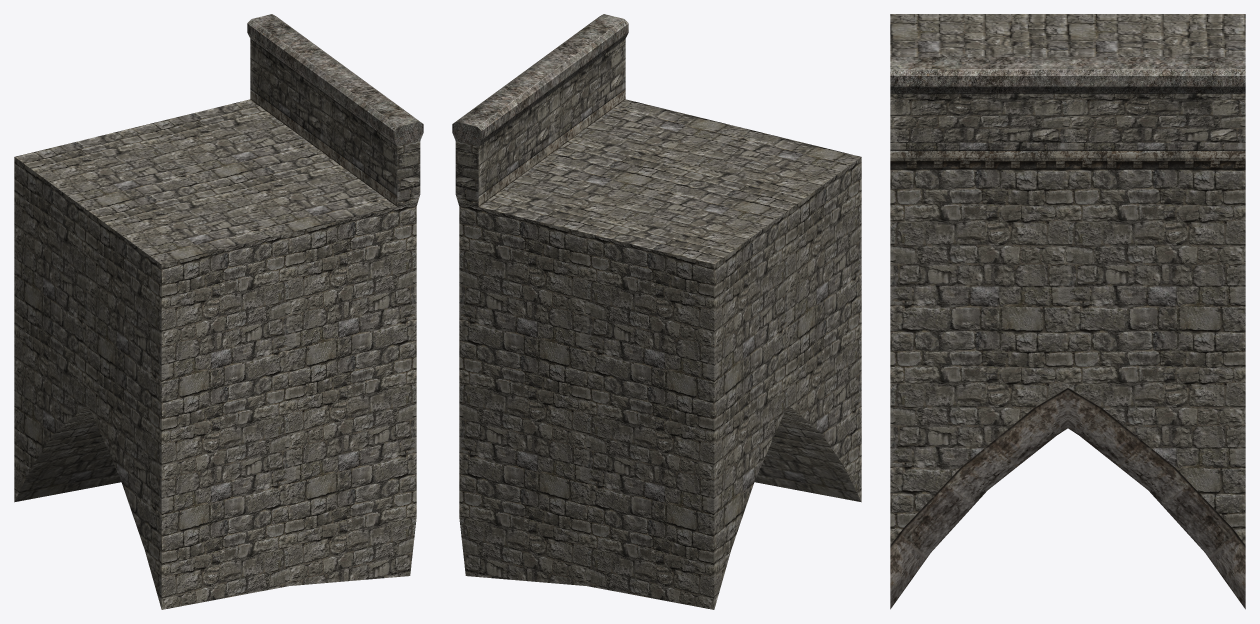
File: StoneBridge_AbutmentSide.dae
The picture shows the model from 3 angles, left to right: view 1: azimuth 30°, elevation 25°; view 2: azimuth 150°, elevation 25°; view 3: azimuth 270°, elevation 25°; orthographic projection. The views are drawn at different scales.
Parts seen in each view (by area): view 1: StoneBridgeAbutmentSide, StoneBridgeAbutmentSideW; view 2: StoneBridgeAbutmentSide, StoneBridgeAbutmentSideW; view 3: StoneBridgeAbutmentSide, StoneBridgeAbutmentSideW.
Boxes of the visible parts, x1,y1,x2,y2 form: StoneBridgeAbutmentSide: [14, 99, 416, 609]; StoneBridgeAbutmentSideW: [15, 14, 423, 501]; StoneBridgeAbutmentSide: [459, 99, 861, 609]; StoneBridgeAbutmentSideW: [452, 14, 860, 501]; StoneBridgeAbutmentSide: [890, 14, 1245, 544]; StoneBridgeAbutmentSideW: [890, 57, 1245, 609].
Size of the model in its own units: 4.11 by 6.78 by 4.
2 materials, 2 textured.
